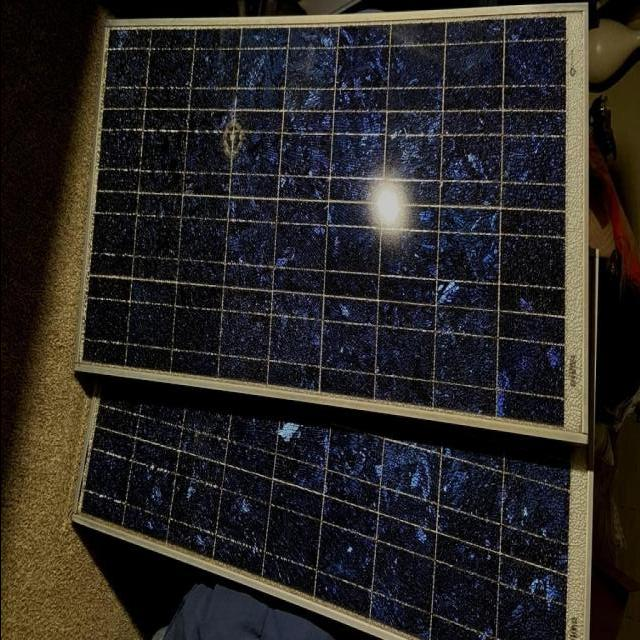cracked: (87, 29, 575, 637)
